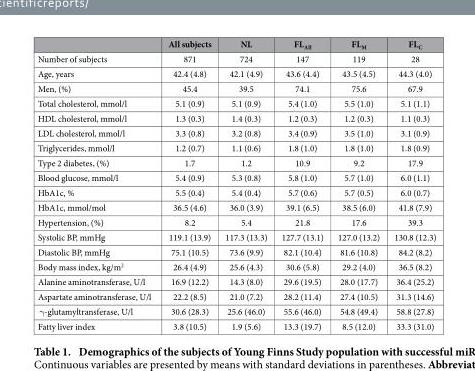table: (36, 37, 435, 331)
table column: (36, 37, 158, 331), (158, 37, 217, 331), (329, 37, 386, 331), (217, 37, 273, 331), (273, 37, 329, 331), (386, 37, 435, 331)
table column header: (36, 37, 435, 51)
table row: (36, 65, 435, 80), (36, 80, 435, 95), (36, 95, 435, 110), (36, 110, 435, 125), (36, 125, 435, 140), (36, 154, 435, 169), (36, 169, 435, 184), (36, 184, 435, 199), (36, 199, 435, 214), (36, 214, 435, 229), (36, 229, 435, 244), (36, 258, 435, 273), (36, 273, 435, 288), (36, 288, 435, 303), (36, 303, 435, 318), (36, 37, 435, 51), (36, 51, 435, 65), (36, 140, 435, 154), (36, 244, 435, 258), (36, 318, 435, 331)
